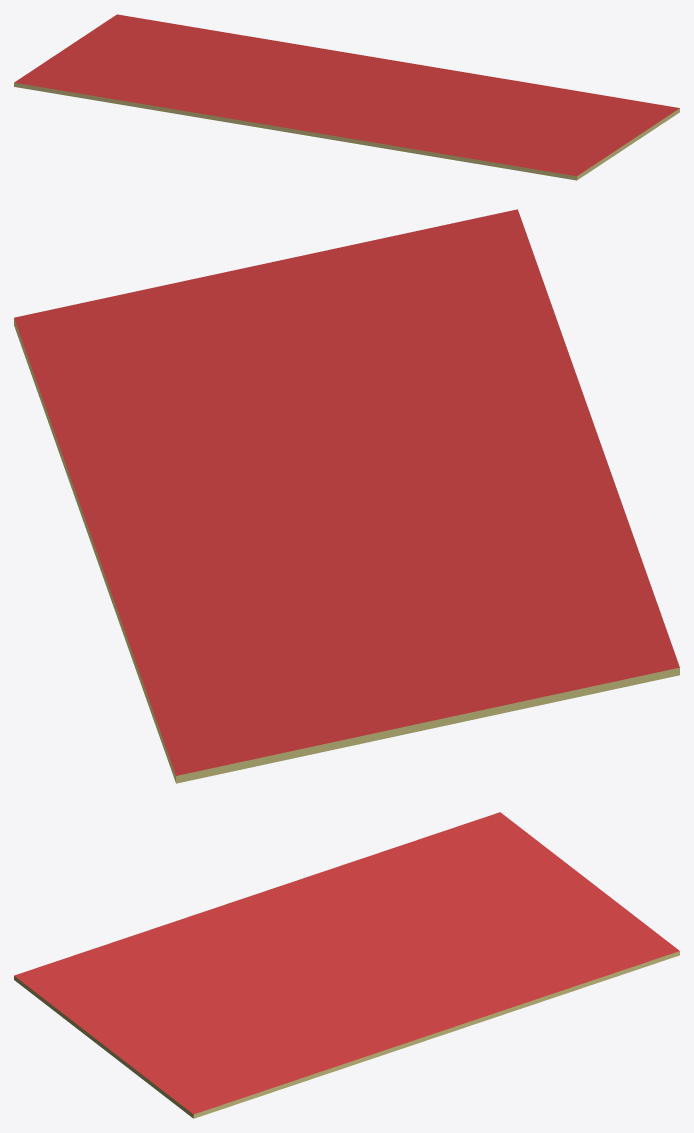
The picture shows the model from 3 angles, top to bottom: view 1: azimuth 30°, elevation 25°; view 2: azimuth 150°, elevation 25°; view 3: azimuth 270°, elevation 25°; orthographic projection. The views are drawn at different scales.
Bounding box in the file's own units: 12.73 × 13.83 × 1.1.
